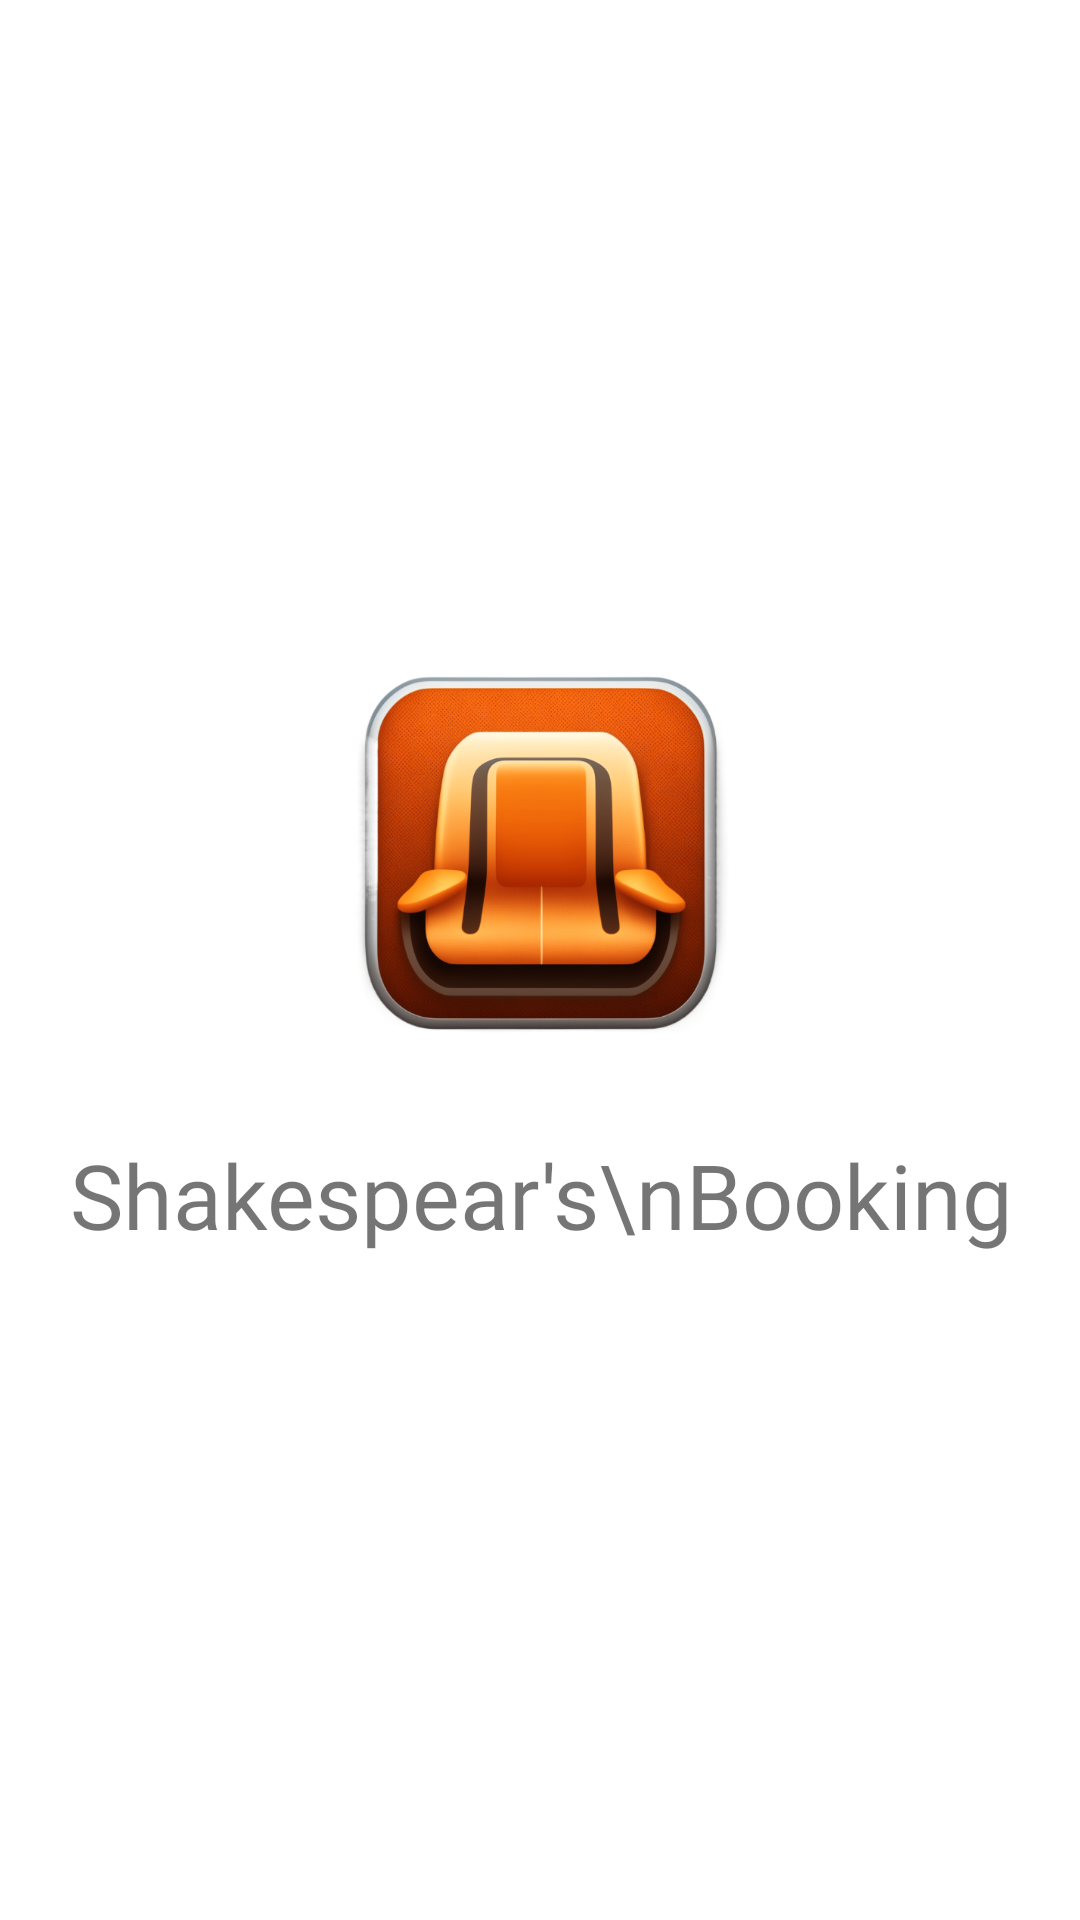

Named icons in this screenshot (1080*1920) and their bounding boxes, rect(x1, y1, x2, y2):
app: rect(362, 677, 721, 1030)
